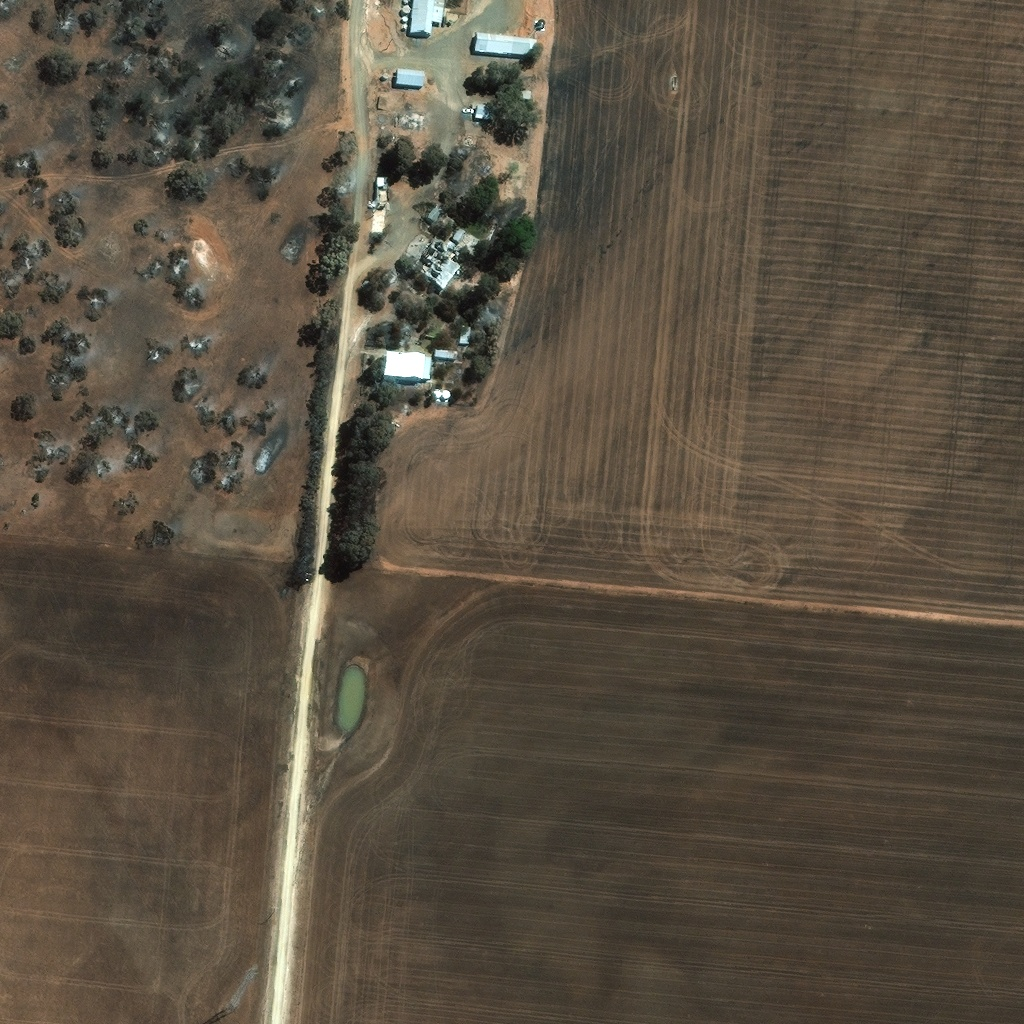0 no-damage: (475, 27, 539, 52), (385, 351, 433, 377), (396, 64, 426, 83), (476, 100, 496, 117), (459, 325, 475, 342), (520, 80, 533, 96), (452, 224, 466, 237), (435, 349, 455, 357), (402, 1, 413, 10), (383, 68, 390, 75), (403, 18, 410, 25)
2 major-damage: (415, 235, 464, 289), (375, 175, 391, 206)
3 destroyed: (408, 327, 425, 340), (389, 128, 399, 139)
4 un-classified: (379, 108, 390, 119), (455, 14, 461, 19)
